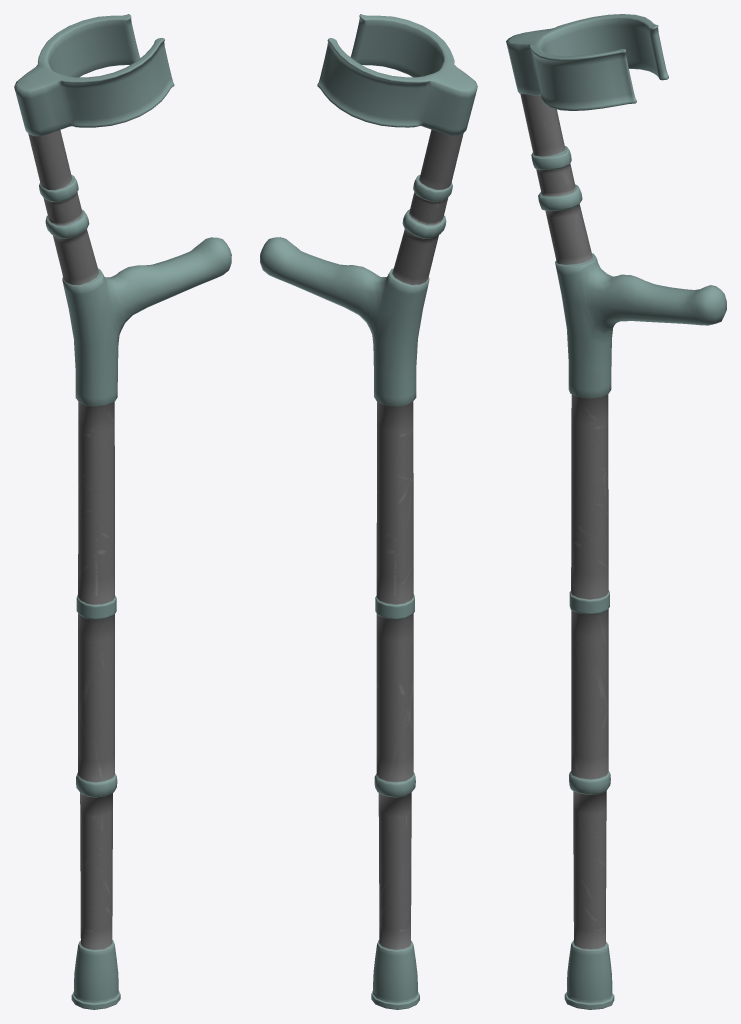
Rendered from kula.fbx.
3 renders of one model, left to right at view 1: azimuth 30°, elevation 25°; view 2: azimuth 150°, elevation 25°; view 3: azimuth 330°, elevation 25°, orthographic.
Visible parts, largest first — view 1: pCube3, pPipe1; view 2: pCube3, pPipe1; view 3: pCube3, pPipe1.
Boxes of the visible parts, left/top/right/bottom form: pCube3: left=28, top=130, right=231, bottom=1009; pPipe1: left=14, top=14, right=174, bottom=136; pCube3: left=260, top=129, right=463, bottom=1009; pPipe1: left=317, top=14, right=477, bottom=135; pCube3: left=520, top=93, right=726, bottom=1009; pPipe1: left=506, top=14, right=668, bottom=110.
Size of the model in its own units: 5.93 by 25.67 by 2.96.
